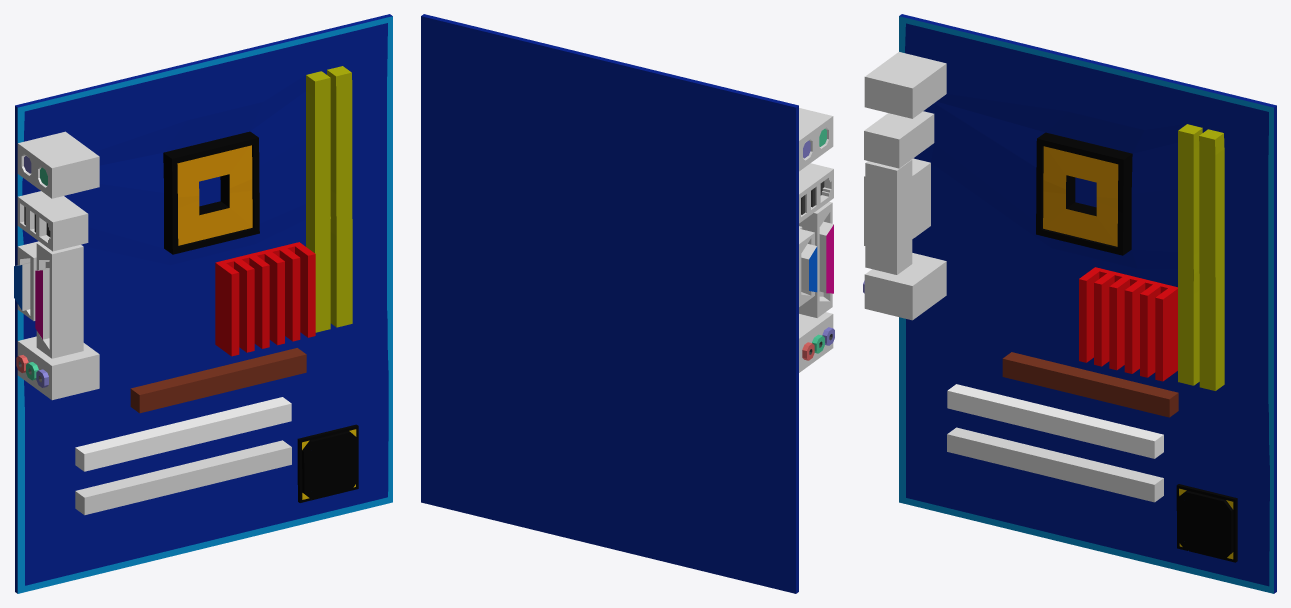
Rendered from mobo_lga775_1-intel.fbx.
The picture shows the model from 3 angles, left to right: view 1: azimuth 30°, elevation 25°; view 2: azimuth 150°, elevation 25°; view 3: azimuth 330°, elevation 25°; orthographic projection.
Parts seen in each view (by area): view 1: Plane, Plane.001; view 2: Plane; view 3: Plane, Plane.001.
Part boxes in pixels (x1,y1,x2,y2): Plane: [14, 14, 392, 593]; Plane.001: [215, 242, 315, 356]; Plane: [421, 14, 834, 593]; Plane: [863, 14, 1276, 593]; Plane.001: [1079, 267, 1177, 381].
Bounding box in the file's own units: 160 × 195 × 27.57.
